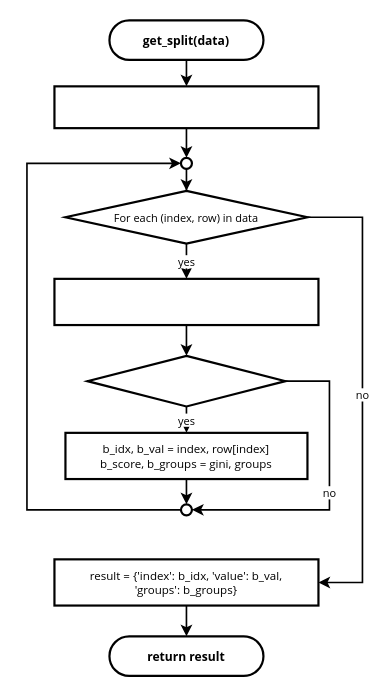
The diagram is 392 pixels wide and 695 high, and some of its shapes have lost their labels. Here are the shapes that lost their labels. From the top down, the box of each, then its label:
(53, 85, 319, 129): b_idx, b_val, b_score = 999, 999, 999.0 b_groups = None
(53, 277, 319, 326): groups = test_split(index, row[index]) gini = gini_index(groups, classes)
(86, 354, 286, 407): gini < b_score
